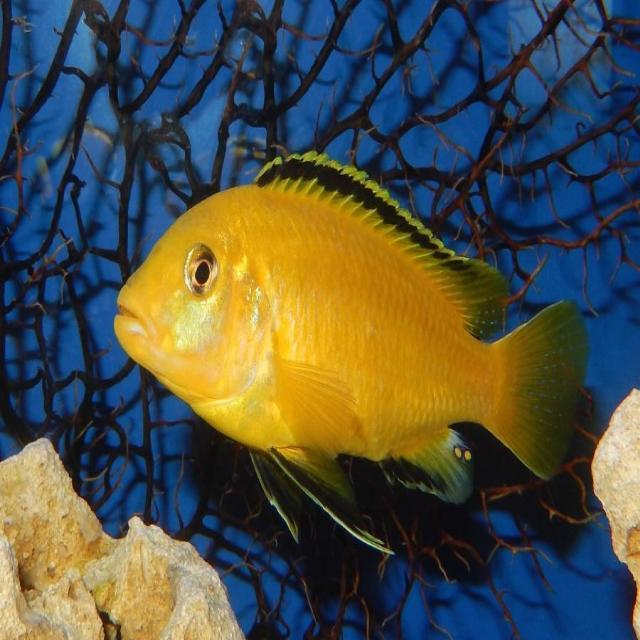YellowCichlid: (112, 151, 580, 498)
